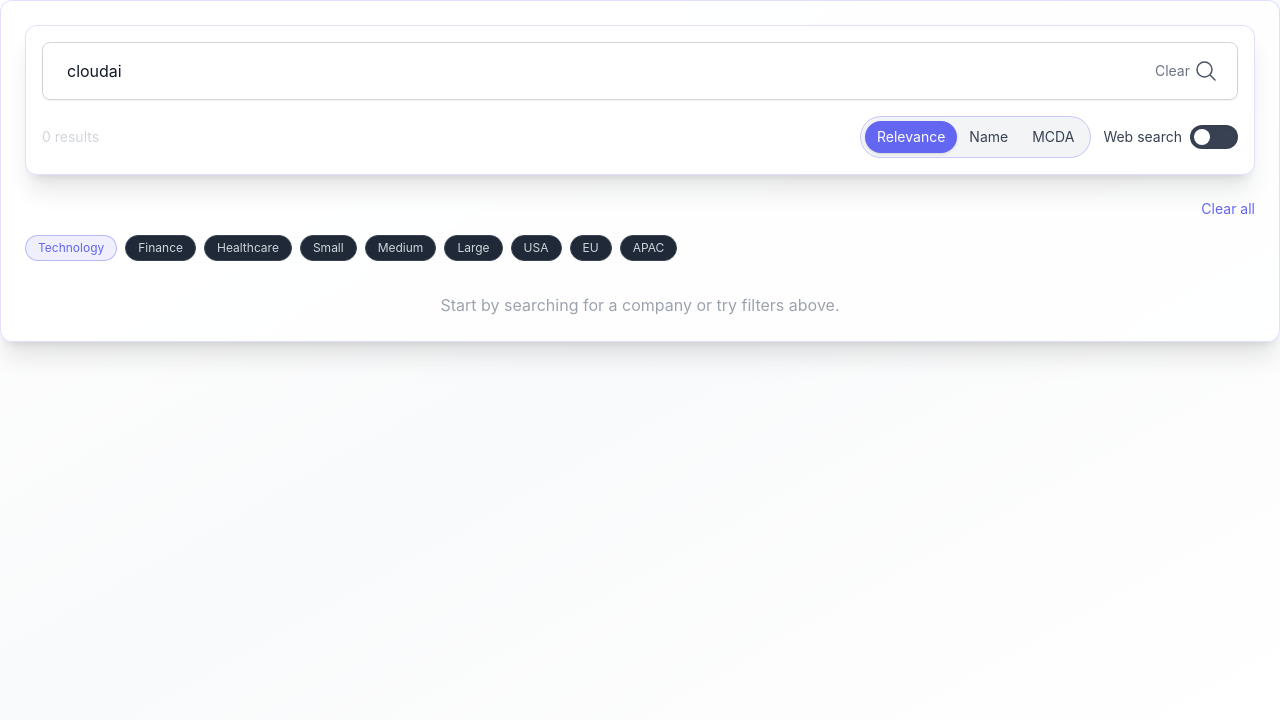
Test: CompanySearch › shows error state when backend fails
The width and height of the screenshot is (1280, 720).
Type "err" into the field named "Search companies" at (640, 71), box [42,42,1238,100]
Wait 400 ms
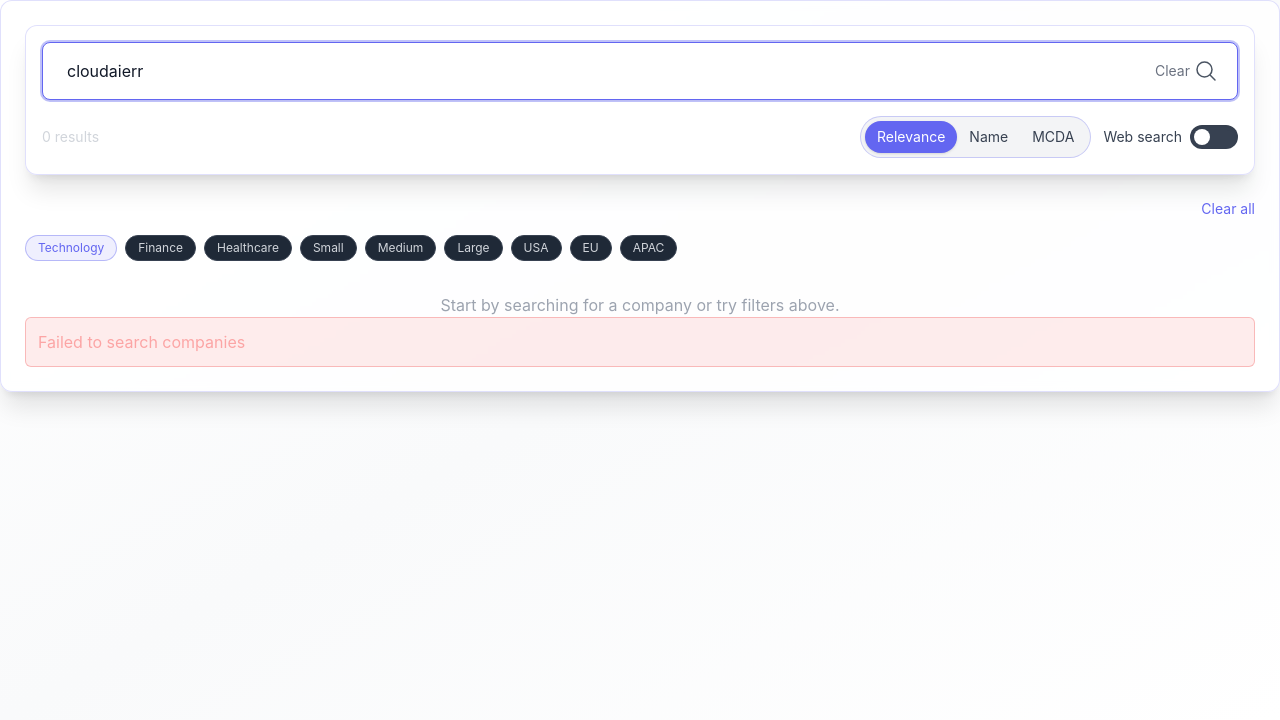
Check: the text "Failed to search companies" is shown, box [25,317,1255,367]
